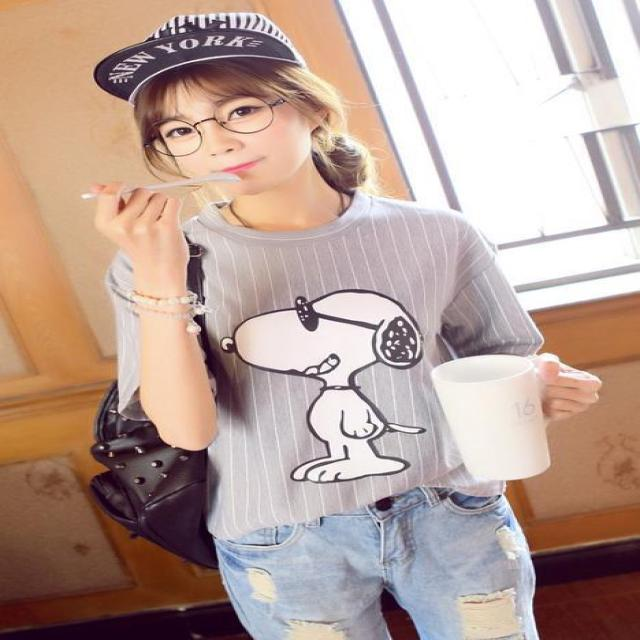short-sleeve-top: (112, 187, 571, 544)
